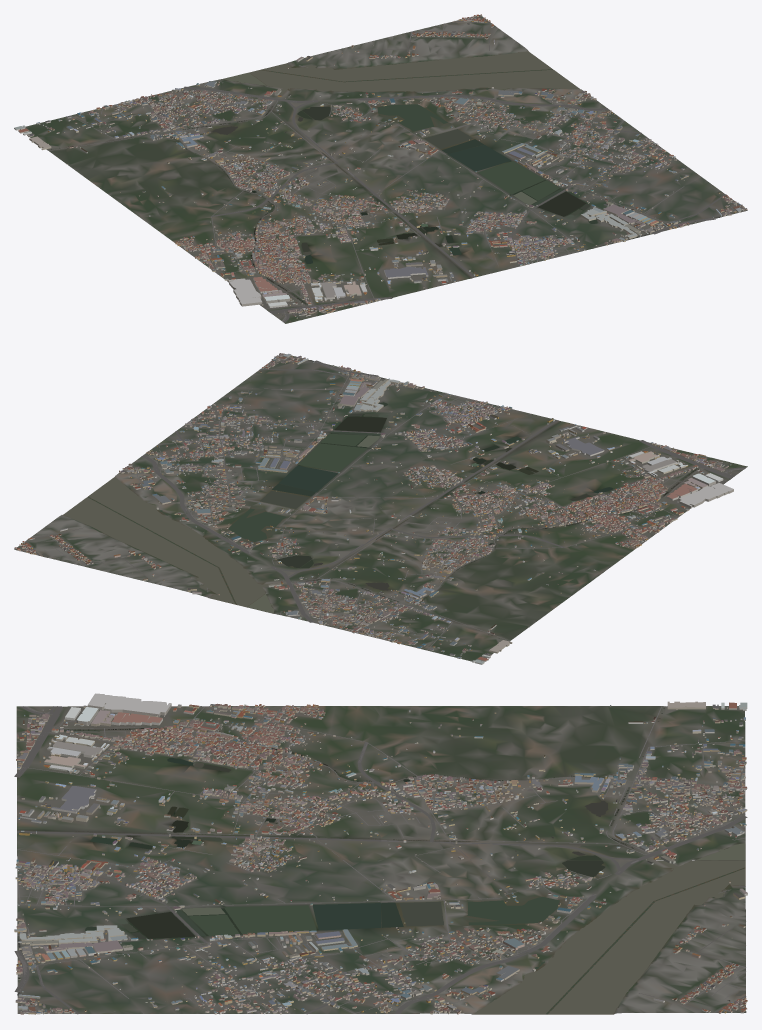
3 views of the same model, one above another, from view 1: azimuth 30°, elevation 25°; view 2: azimuth 150°, elevation 25°; view 3: azimuth 270°, elevation 25° (orthographic). The views are drawn at different scales.
Parts seen in each view (by area): view 1: ground, buildings, water, roads; view 2: ground, buildings, water, roads; view 3: ground, buildings, water, roads.
Part boxes in pixels (left/top/right/bottom): ground: left=24, top=15, right=747, bottom=323; buildings: left=14, top=14, right=747, bottom=318; water: left=47, top=22, right=719, bottom=303; roads: left=48, top=21, right=745, bottom=322; ground: left=14, top=353, right=747, bottom=661; buildings: left=14, top=353, right=733, bottom=664; water: left=42, top=360, right=729, bottom=638; roads: left=21, top=355, right=745, bottom=650; ground: left=16, top=706, right=746, bottom=1014; buildings: left=14, top=693, right=747, bottom=1014; water: left=17, top=706, right=745, bottom=1014; roads: left=14, top=706, right=747, bottom=1014.
Size of the model in its own units: 2898 by 30.08 by 2825.
